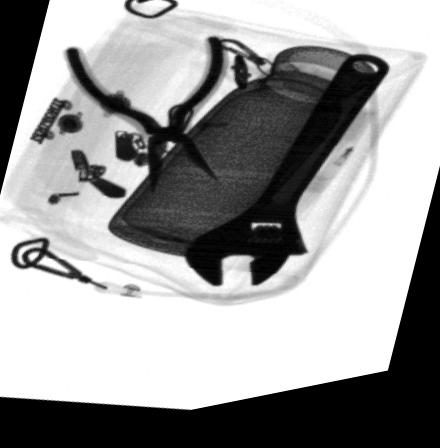Pliers: (63, 44, 225, 201)
Wrench: (180, 68, 393, 298)
